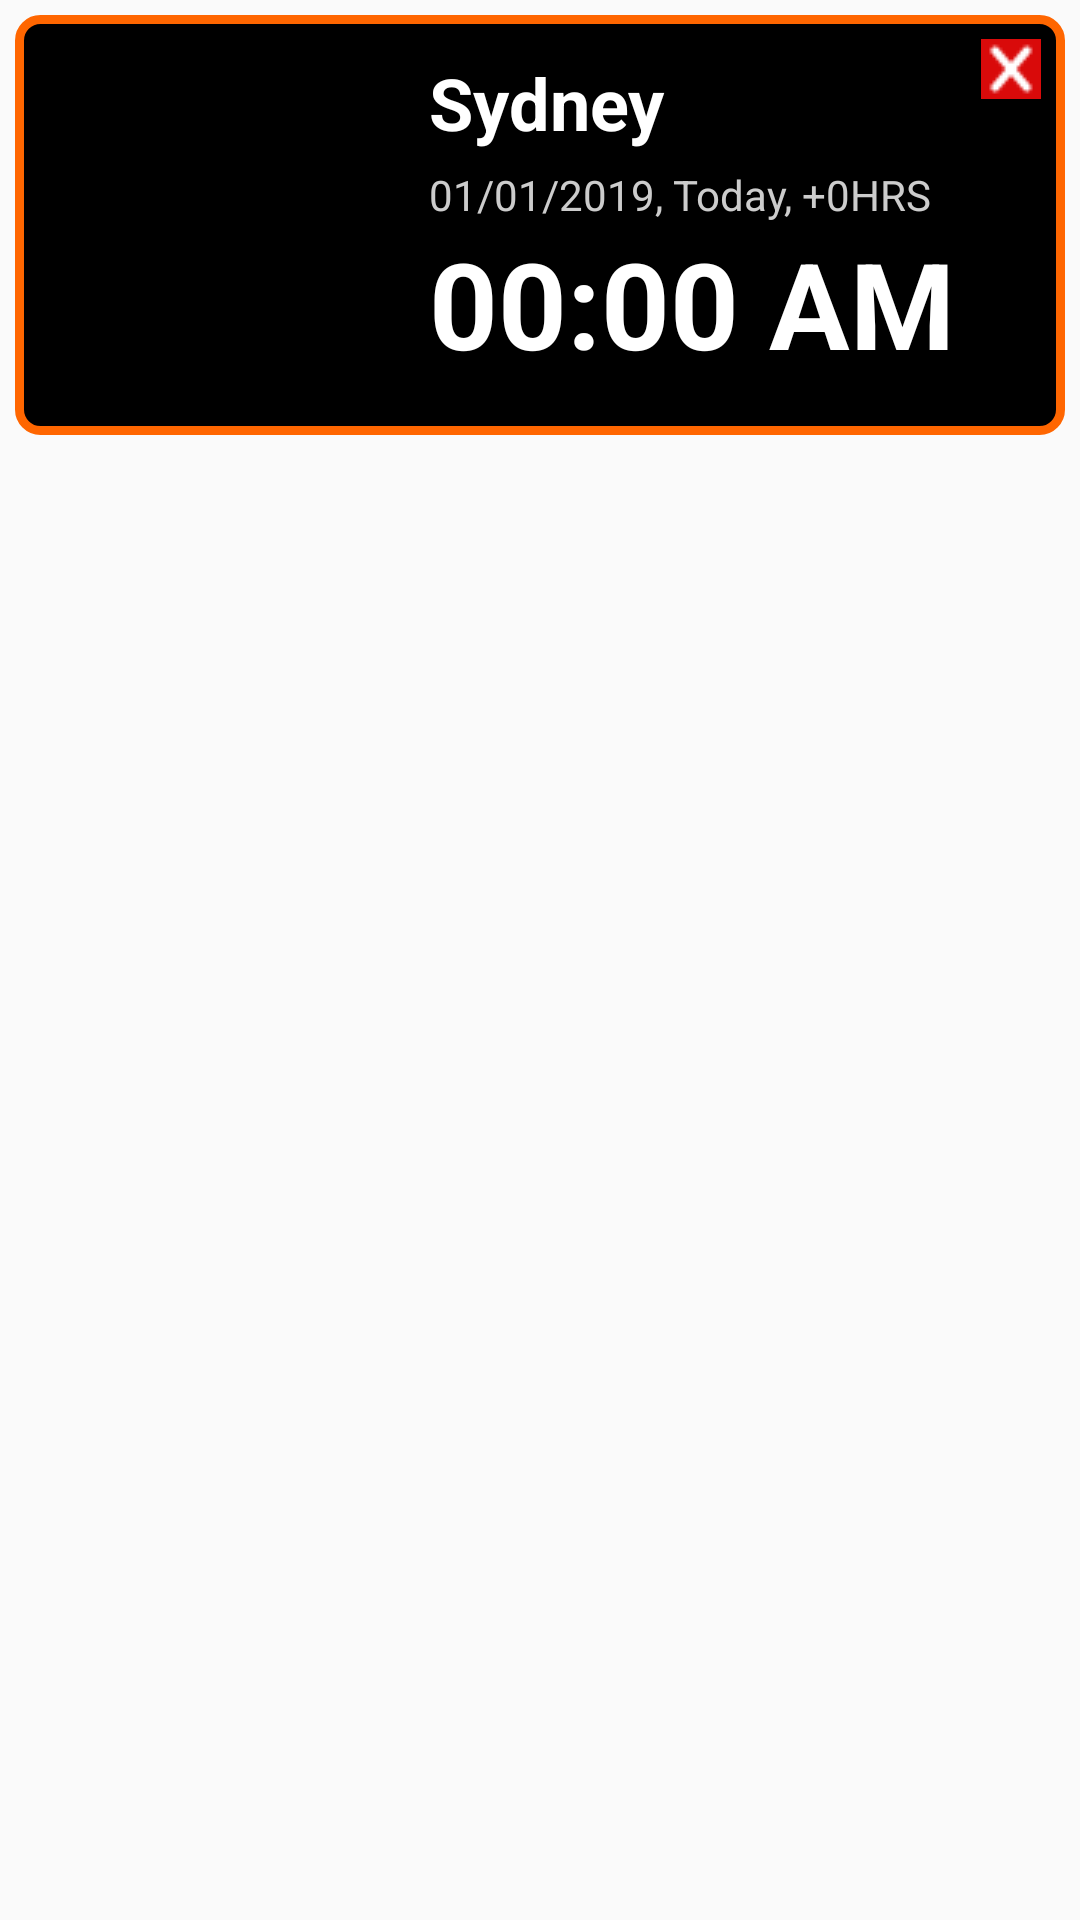

Where icons sit on this 1080px×1920px app screen, as (x1=x1, y1=y1, x2=x2, y2=y2):
remove: (x1=981, y1=39, x2=1041, y2=99)
